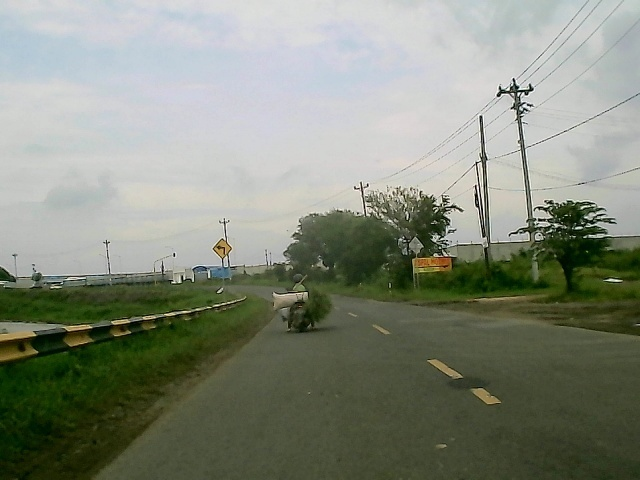Tikungan tajam ke kiri: (210, 237, 235, 261)
